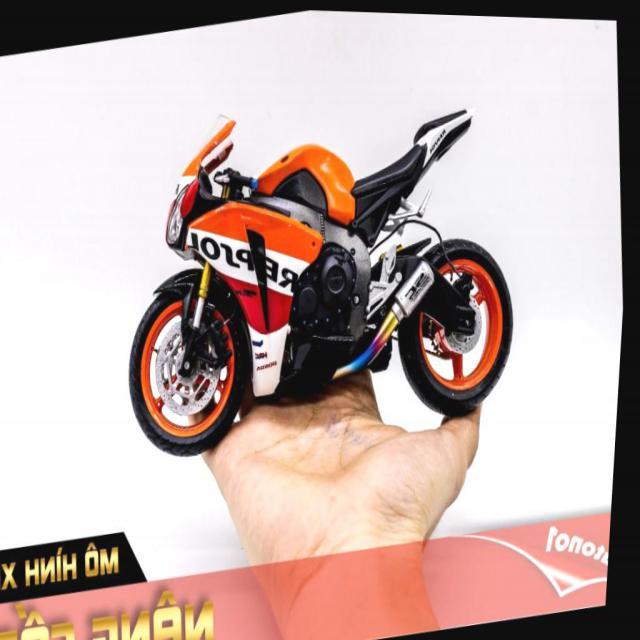HRC RCV 213: (108, 57, 536, 472)
